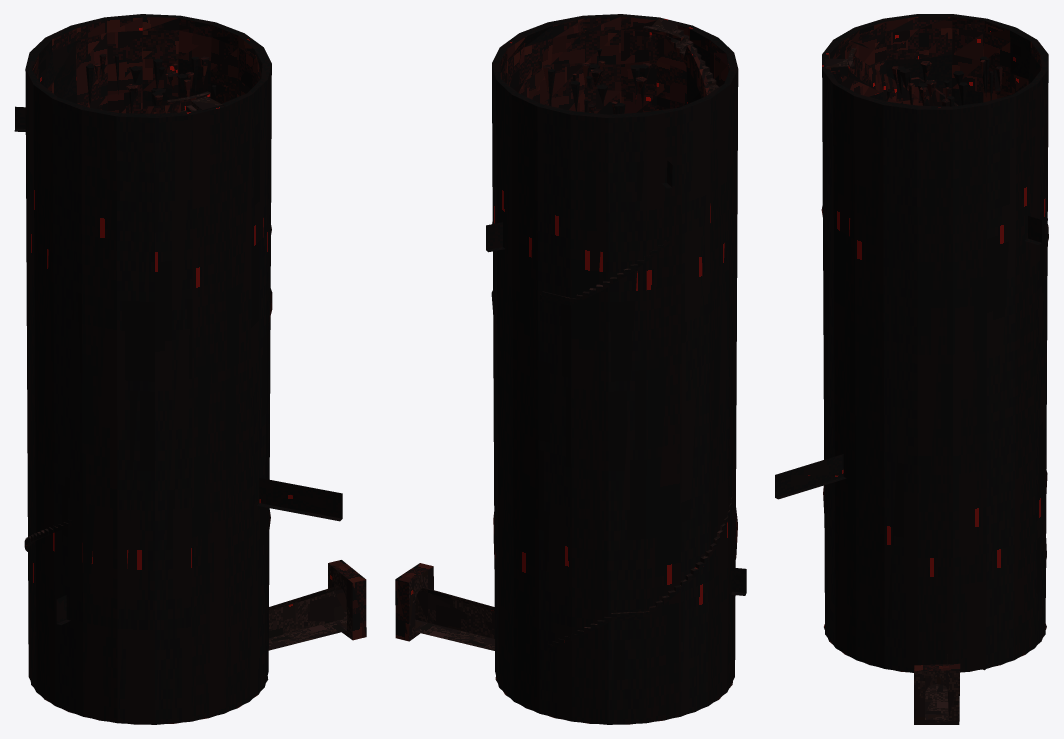
File: tower_interior.glb
3 renders of one model, left to right at view 1: azimuth 30°, elevation 25°; view 2: azimuth 150°, elevation 25°; view 3: azimuth 270°, elevation 25°, orthographic. The views are drawn at different scales.
Parts seen in each view (by area): view 1: TowerInterior; view 2: TowerInterior; view 3: TowerInterior.
Part boxes in pixels (x1,y1,x2,y2): TowerInterior: [14, 14, 366, 724]; TowerInterior: [395, 14, 746, 724]; TowerInterior: [775, 14, 1048, 724].
Size of what is drawn, in the model's own units: 20.8 by 38.54 by 16.79.
1 material, 1 textured.
